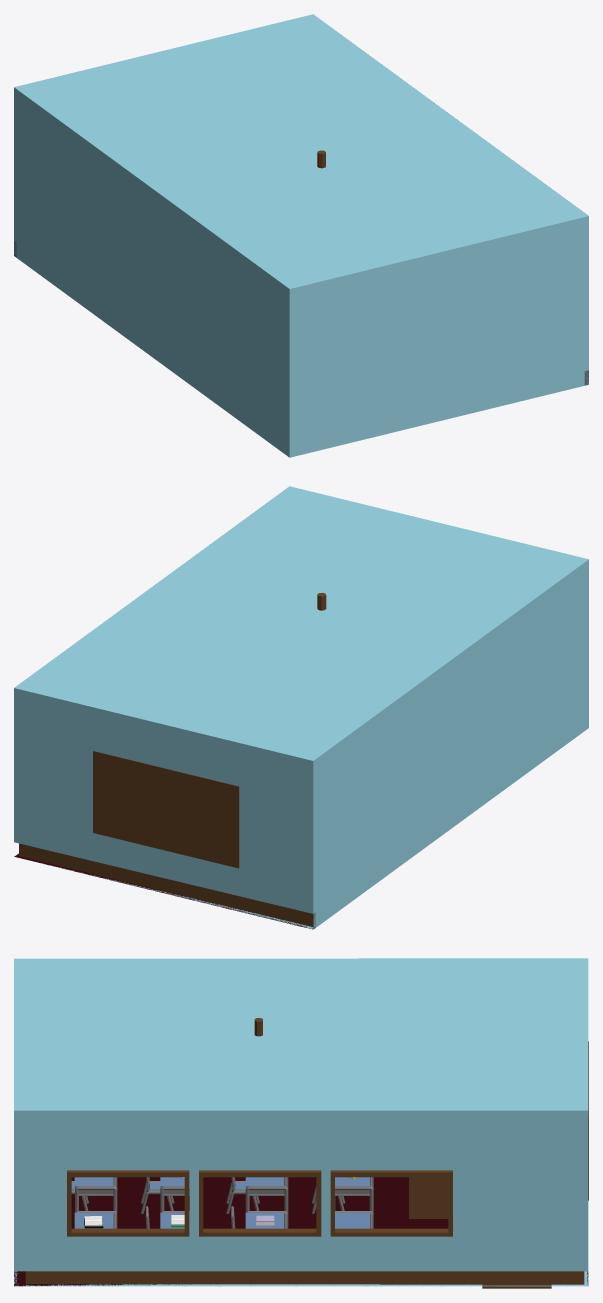
Rendered from Aula.fbx.
The picture shows the model from 3 angles, top to bottom: view 1: azimuth 30°, elevation 25°; view 2: azimuth 150°, elevation 25°; view 3: azimuth 270°, elevation 25°; orthographic projection. The views are drawn at different scales.
Parts seen in each view (by area): view 1: Salon; view 2: Salon, Pizarron; view 3: Salon, Mesa Profesor, Cubo.009, Mesa.004, Mesa.010, Mesa.001, Mesa, Mesa.003, Mesa.009, Mesa.007.
Boxes of the visible parts, bbox=[...] form: Salon: bbox=[14, 14, 588, 457]; Salon: bbox=[14, 486, 588, 929]; Pizarron: bbox=[93, 751, 239, 868]; Salon: bbox=[14, 958, 588, 1286]; Mesa Profesor: bbox=[409, 1177, 448, 1218]; Cubo.009: bbox=[482, 1271, 551, 1288]; Mesa.004: bbox=[245, 1177, 288, 1213]; Mesa.010: bbox=[74, 1177, 117, 1212]; Mesa.001: bbox=[335, 1177, 373, 1212]; Mesa: bbox=[335, 1211, 373, 1228]; Mesa.003: bbox=[245, 1211, 288, 1228]; Mesa.009: bbox=[74, 1211, 117, 1228]; Mesa.007: bbox=[160, 1171, 189, 1212].
Size of the model in its own units: 1067 by 625 by 1683.
13 materials, 13 textured.
